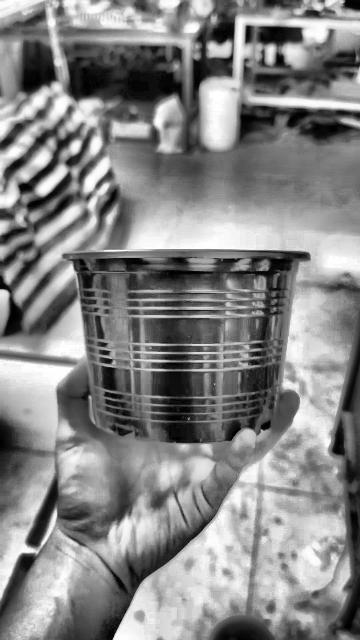pot: (64, 250, 309, 443)
